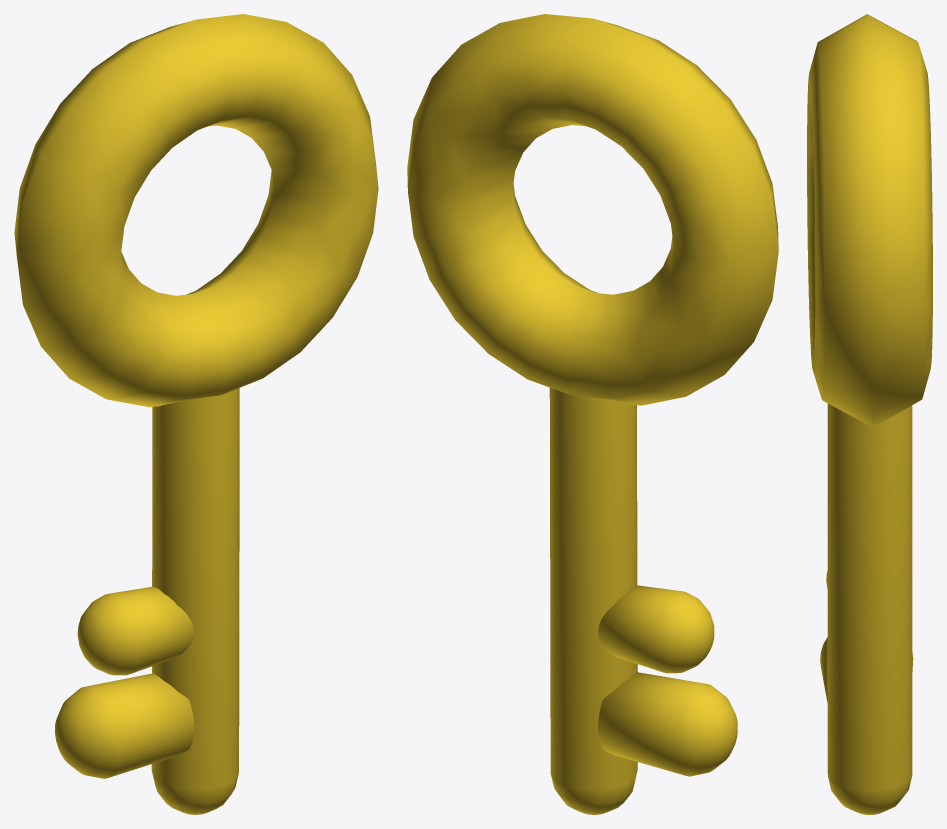
The model's file is Key.fbx.
3 renders of one model, left to right at view 1: azimuth 30°, elevation 25°; view 2: azimuth 150°, elevation 25°; view 3: azimuth 270°, elevation 25°, orthographic.
Visible parts, largest first — view 1: Key; view 2: Key; view 3: Key.
Boxes of the visible parts, box(x1,y1,x2,y2) form: Key: box(14, 14, 378, 814); Key: box(407, 14, 778, 814); Key: box(807, 14, 932, 814).
Size of the model in its own units: 0.6775 by 1.4 by 0.2056.
